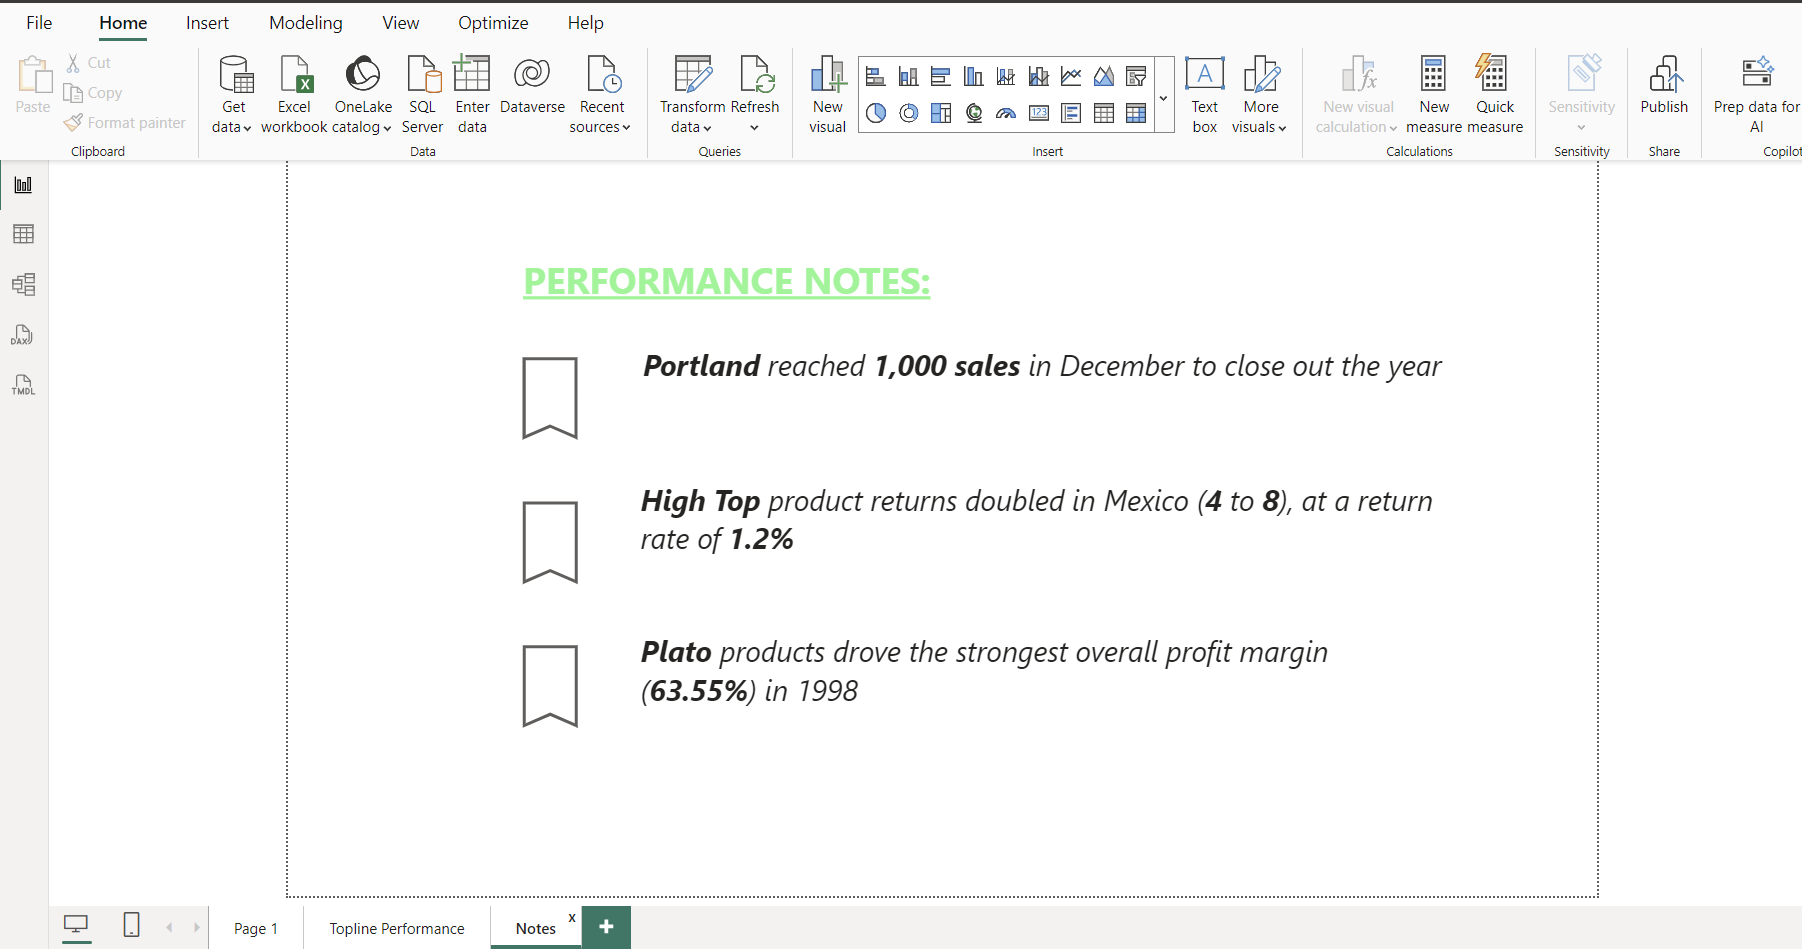

This screenshot's page, from the dashboard's own definition file:
{"tool":"powerbi","page":{"name":"Notes","canvas":[1280,720],"ordinal":2},"visuals":[{"type":"textbox","box":[225,86.8,909.8,89.3],"z":0},{"type":"textbox","box":[342.4,176.1,801,92.9],"z":1000},{"type":"actionButton","box":[206.2,176.2,100,115],"z":2000},{"type":"actionButton","box":[206.7,319.9,100.3,107.6],"z":2001},{"type":"textbox","box":[339.9,308.6,803.4,107.6],"z":2002},{"type":"actionButton","box":[206.7,456.1,100.3,118.6],"z":2003},{"type":"textbox","box":[339.9,456.1,803.4,101.5],"z":2004}]}

Visuals, with their boxes on the page's 1280x720 design canvas (x1, y1, x2, y2). These are canvas units, not pixel positions in the 1802x949 screenshot, which may show the page scaled, cropped or inside an application window:
textbox: select_region(225, 87, 1135, 176)
textbox: select_region(342, 176, 1143, 269)
actionButton: select_region(206, 176, 306, 291)
actionButton: select_region(207, 320, 307, 428)
textbox: select_region(340, 309, 1143, 416)
actionButton: select_region(207, 456, 307, 575)
textbox: select_region(340, 456, 1143, 558)
